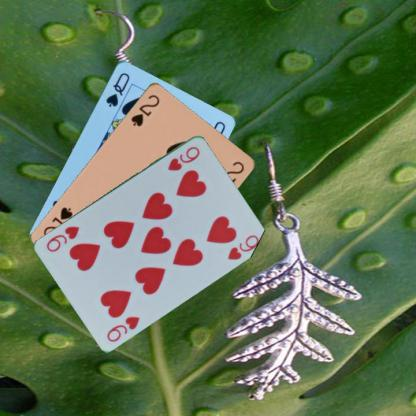2s: (128, 91, 161, 128)
9h: (104, 313, 141, 343), (165, 143, 201, 172)
Qs: (103, 69, 131, 108)
